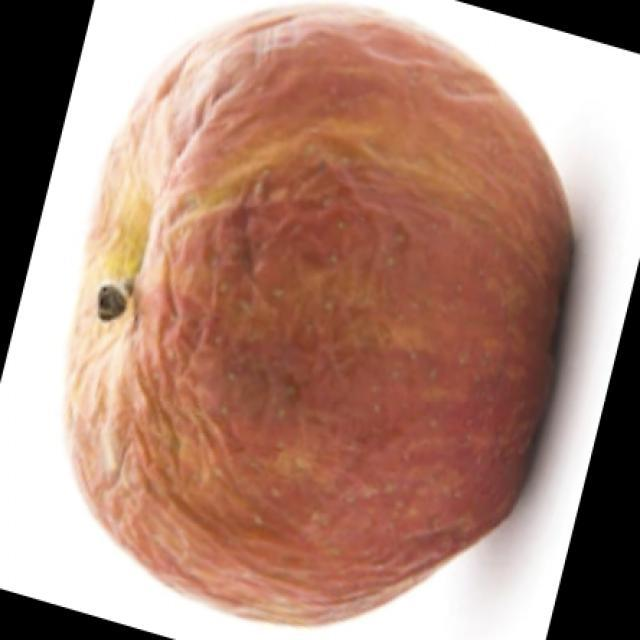Rotten: (90, 23, 568, 580)
